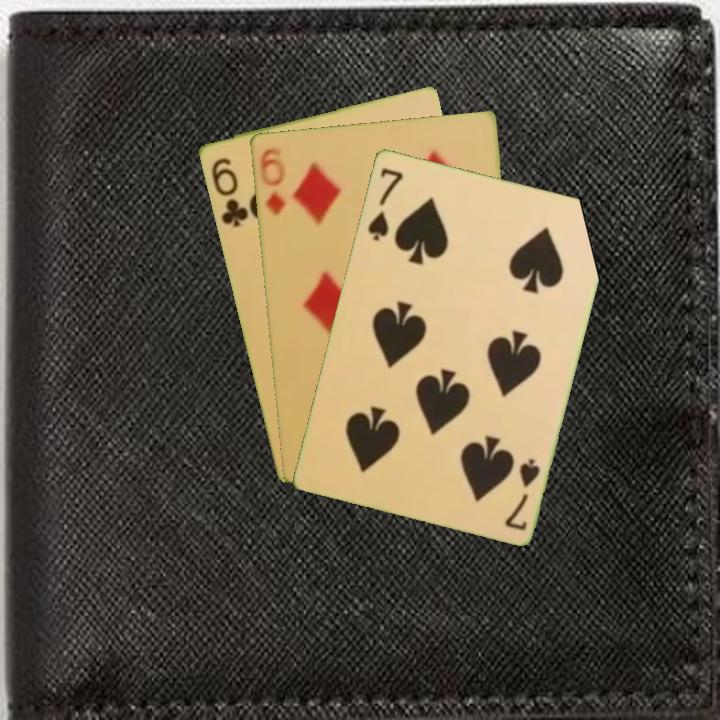6c: (207, 153, 251, 230)
6d: (255, 144, 288, 218)
7s: (500, 454, 543, 533), (364, 164, 406, 243)
